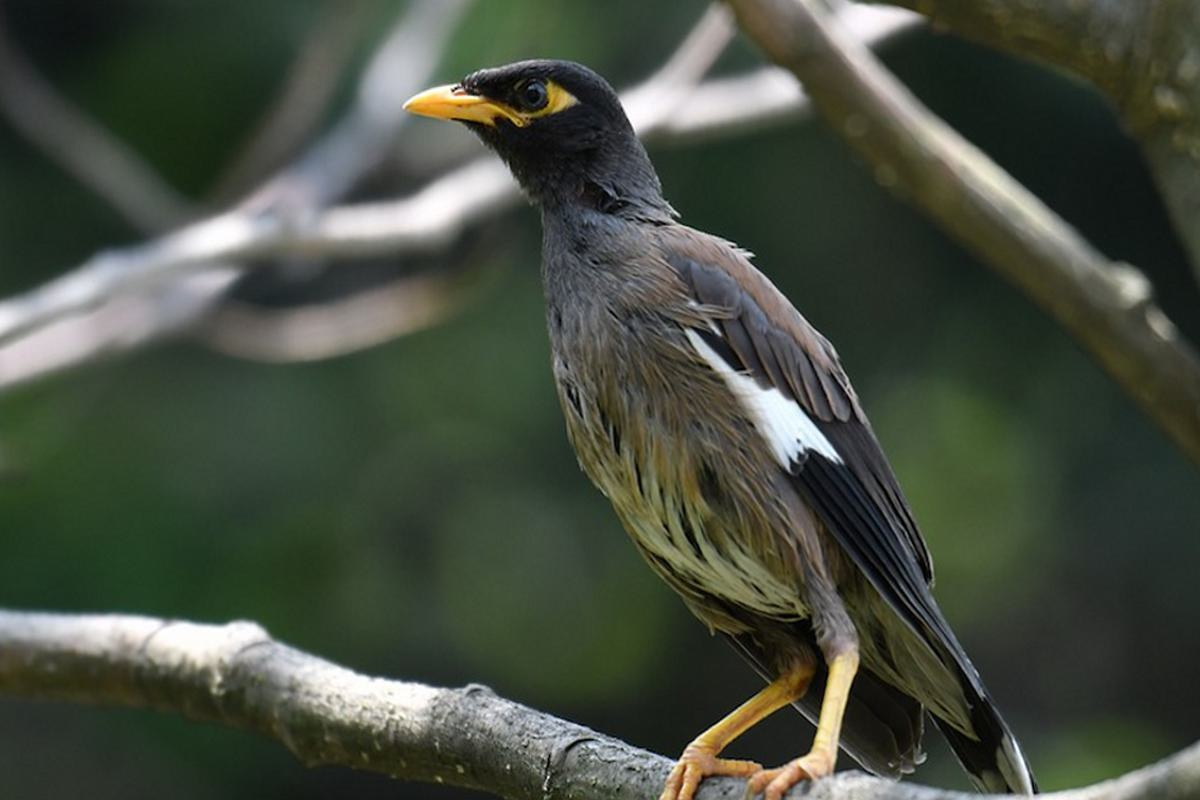myna: (403, 60, 977, 800)
